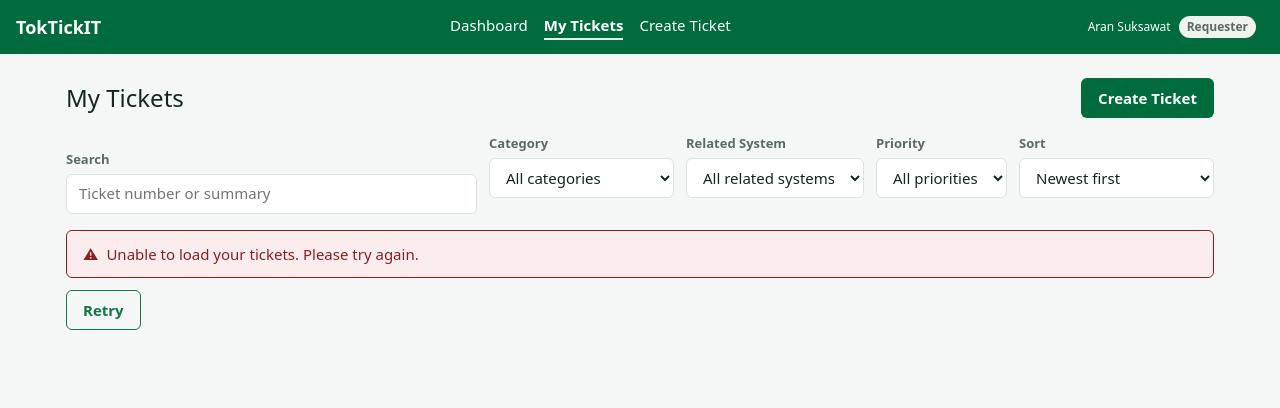
Test: Failure feedback on the Requester screens › UI-25: My Tickets shows a safe message with Retry, and Retry loads the list
This screenshot has width=1280, height=408.
Expected: the text "Unable to load your tickets. Please try again." is shown, [106, 242, 419, 265]
Click the button "Retry".
click(103, 310)  # box [66, 290, 141, 330]
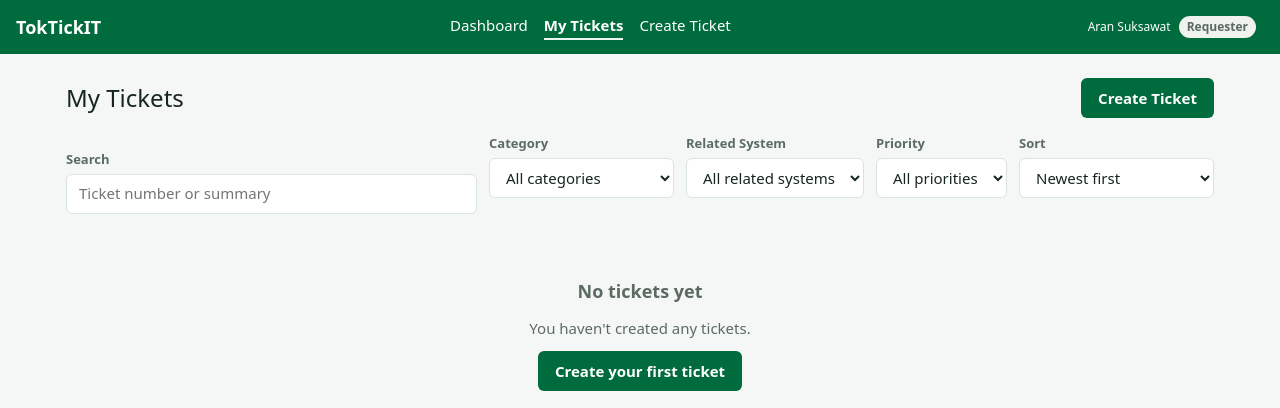
Expected: the text "Unable to load your tickets. Please try again." is gone
